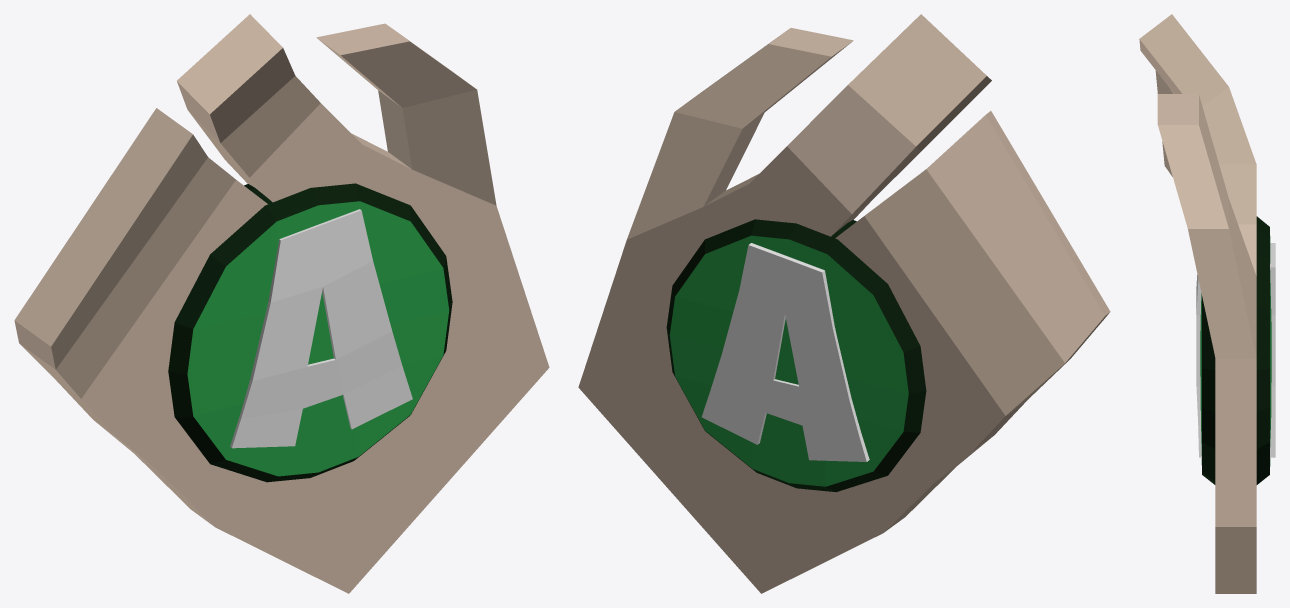
File: Pickup_Icon.fbx
3 views of the same model, side by side, from view 1: azimuth 30°, elevation 25°; view 2: azimuth 150°, elevation 25°; view 3: azimuth 270°, elevation 25° (orthographic). The views are drawn at different scales.
Parts seen in each view (by area): view 1: Cube; view 2: Cube; view 3: Cube.
Boxes of the visible parts, x1,y1,x2,y2 form: Cube: [14, 14, 549, 593]; Cube: [578, 14, 1110, 593]; Cube: [1139, 14, 1275, 593].
Size of the model in its own units: 160 by 177 by 41.27.
